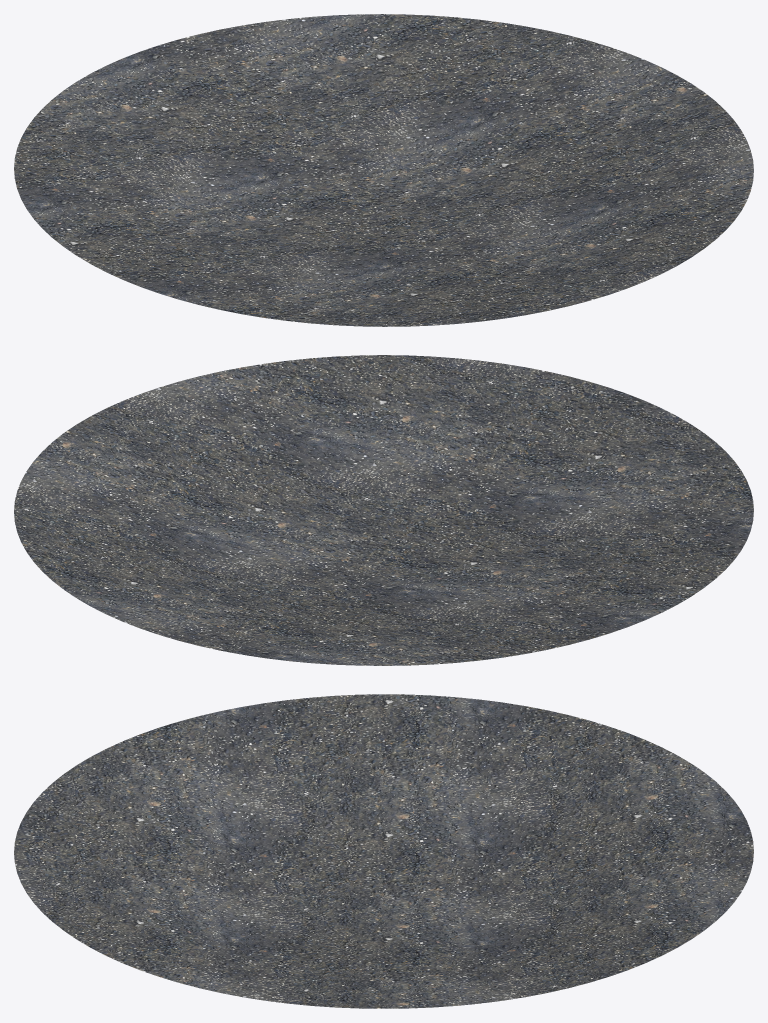
File: texture_of_old_black_asphalt_highly_degraded.glb
3 views of the same model, one above another, from view 1: azimuth 30°, elevation 25°; view 2: azimuth 150°, elevation 25°; view 3: azimuth 270°, elevation 25° (orthographic).
Visible parts, largest first — view 1: Object_2; view 2: Object_2; view 3: Object_2.
Boxes of the visible parts, <box> form: Object_2: <box>14,14,753,326</box>; Object_2: <box>14,355,753,665</box>; Object_2: <box>14,694,753,1008</box>.
Size of the model in its own units: 1316 by 67 by 1316.
Materials: 1 (1 with a texture image).
